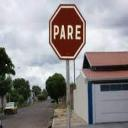Pare: (49, 4, 86, 62)
